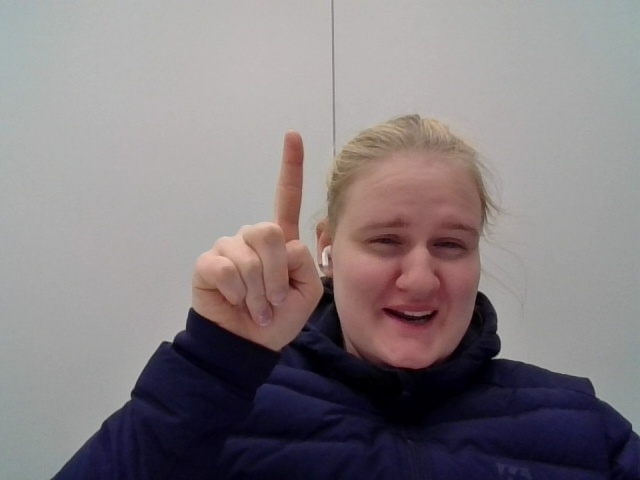up: (192, 131, 329, 351)
